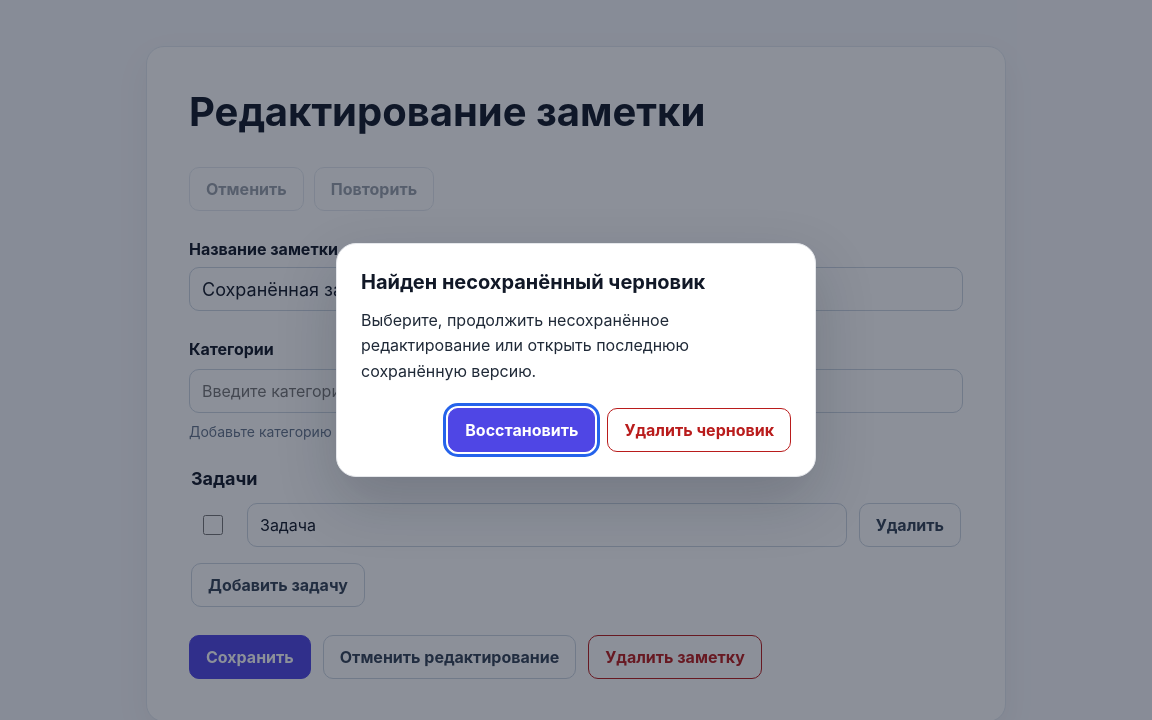
Test case: note editor routes › discards a stored draft and keeps the persisted note unchanged
Step 1. Click the button with test id "draft-discard" → (699, 430), box left=607, top=408, right=791, bottom=452
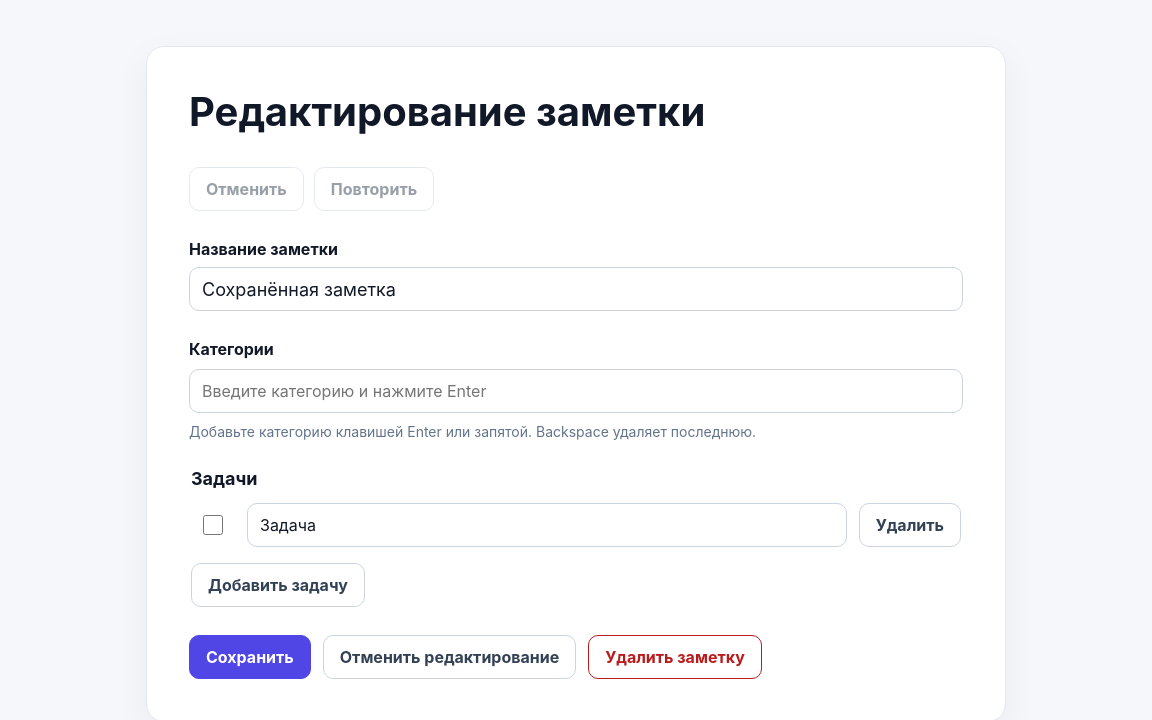
Expected: the field named "title" holds "Сохранённая заметка", left=189, top=267, right=963, bottom=311
Expected: the dialog is gone
